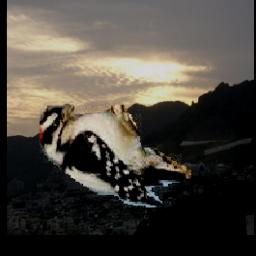Woodpecker: (39, 97, 196, 207)
